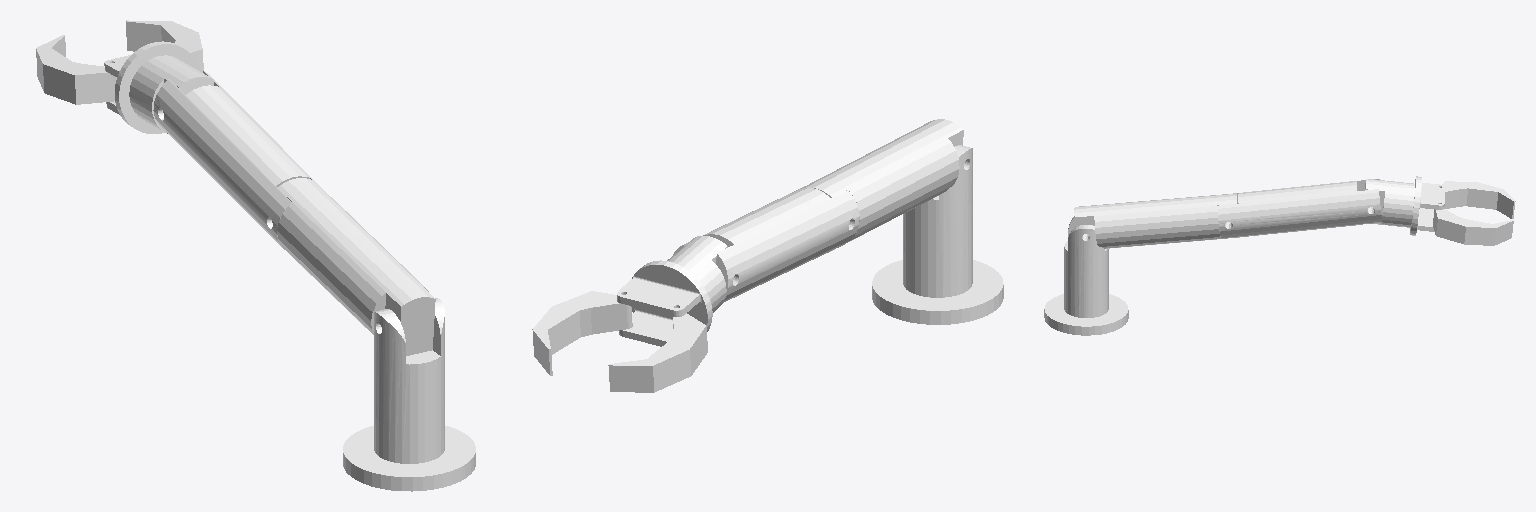
The robot description file, URDF, robot "ros2_sim":
<?xml version="1.0" encoding="utf-8"?>
<!-- This URDF was automatically created by SolidWorks to URDF Exporter! Originally created by [author] ([email redacted]) 
     Commit Version: 1.6.0-4-g7f85cfe  Build Version: 1.6.7995.38578
     For more information, please see http://wiki.ros.org/sw_urdf_exporter -->
<robot
  name="ros2_sim">
  <link
    name="base">
    <inertial>
      <origin
        xyz="-1.60033437349688E-18 -0.005 1.04747665444306E-17"
        rpy="0 0 0" />
      <mass
        value="0.0567450173054657" />
      <inertia
        ixx="2.60967970212116E-05"
        ixy="2.82133496763036E-22"
        ixz="-1.6940658945086E-21"
        iyy="5.12478437539987E-05"
        iyz="5.45047151323007E-23"
        izz="2.60967970212116E-05" />
    </inertial>
    <visual>
      <origin
        xyz="0 0 0"
        rpy="0 0 0" />
      <geometry>
        <mesh
          filename="package://ros2_sim/meshes/base.STL" />
      </geometry>
      <material
        name="">
        <color
          rgba="1 1 1 1" />
      </material>
    </visual>
    <collision>
      <origin
        xyz="0 0 0"
        rpy="0 0 0" />
      <geometry>
        <mesh
          filename="package://ros2_sim/meshes/base.STL" />
      </geometry>
    </collision>
  </link>
  <link
    name="base_link">
    <inertial>
      <origin
        xyz="3.9002469351753E-10 0.0402682304308751 4.30569158116084E-09"
        rpy="0 0 0" />
      <mass
        value="0.124890716575147" />
      <inertia
        ixx="9.27843237113564E-05"
        ixy="-1.81820399960508E-12"
        ixz="2.81368669640517E-11"
        iyy="3.2996480797957E-05"
        iyz="-2.15623744000747E-11"
        izz="8.99131695457092E-05" />
    </inertial>
    <visual>
      <origin
        xyz="0 0 0"
        rpy="0 0 0" />
      <geometry>
        <mesh
          filename="package://ros2_sim/meshes/base_link.STL" />
      </geometry>
      <material
        name="">
        <color
          rgba="1 1 1 1" />
      </material>
    </visual>
    <collision>
      <origin
        xyz="0 0 0"
        rpy="0 0 0" />
      <geometry>
        <mesh
          filename="package://ros2_sim/meshes/base_link.STL" />
      </geometry>
    </collision>
  </link>
  <joint
    name="base_joint"
    type="continuous">
    <origin
      xyz="0 0 0"
      rpy="1.5708 0 1.5494" />
    <parent
      link="base" />
    <child
      link="base_link" />
    <axis
      xyz="0 1 0" />
    <limit
      
      effort="50"
      velocity="3.14" />
    <dynamics
      damping="0.5"
      friction="0.2" />
    <safety_controller
      soft_upper_limit="1.8"
      soft_lower_limit="-1"
      k_position="100"
      k_velocity="10" />
  </joint>
  <link
    name="boom">
    <inertial>
      <origin
        xyz="5.55111512312578E-17 0.0725000000000001 5.44269490587723E-18"
        rpy="0 0 0" />
      <mass
        value="0.238854677214736" />
      <inertia
        ixx="0.000497928132261683"
        ixy="-1.65594941188216E-19"
        ixz="-1.05879118406788E-22"
        iyy="5.87726764163228E-05"
        iyz="4.2351647362715E-22"
        izz="0.000502414245810327" />
    </inertial>
    <visual>
      <origin
        xyz="0 0 0"
        rpy="0 0 0" />
      <geometry>
        <mesh
          filename="package://ros2_sim/meshes/boom.STL" />
      </geometry>
      <material
        name="">
        <color
          rgba="1 1 1 1" />
      </material>
    </visual>
    <collision>
      <origin
        xyz="0 0 0"
        rpy="0 0 0" />
      <geometry>
        <mesh
          filename="package://ros2_sim/meshes/boom.STL" />
      </geometry>
    </collision>
  </link>
  <joint
    name="boom_joint"
    type="revolute">
    <origin
      xyz="0 0.09 0"
      rpy="0 0 -1.4684" />
    <parent
      link="base_link" />
    <child
      link="boom" />
    <axis
      xyz="0 0 1" />
    <limit
      lower="-0.8"
      upper="1.5"
      effort="50"
      velocity="3.14" />
    <dynamics
      damping="0.5"
      friction="0.2" />
    <safety_controller
      soft_upper_limit="1.8"
      soft_lower_limit="-1"
      k_position="100"
      k_velocity="10" />
  </joint>
  <link
    name="stick">
    <inertial>
      <origin
        xyz="-1.11843248551402E-09 0.0725000059494124 -1.9384471590389E-08"
        rpy="0 0 0" />
      <mass
        value="0.213608786801651" />
      <inertia
        ixx="0.000373907028297135"
        ixy="-5.57398978615582E-12"
        ixz="1.38658290747926E-12"
        iyy="5.63436589421885E-05"
        iyz="2.07772668891586E-11"
        izz="0.000369720498308108" />
    </inertial>
    <visual>
      <origin
        xyz="0 0 0"
        rpy="0 0 0" />
      <geometry>
        <mesh
          filename="package://ros2_sim/meshes/stick.STL" />
      </geometry>
      <material
        name="">
        <color
          rgba="1 1 1 1" />
      </material>
    </visual>
    <collision>
      <origin
        xyz="0 0 0"
        rpy="0 0 0" />
      <geometry>
        <mesh
          filename="package://ros2_sim/meshes/stick.STL" />
      </geometry>
    </collision>
  </link>
  <joint
    name="stick_joint"
    type="revolute">
    <origin
      xyz="0 0.145 0"
      rpy="-3.1416 0 -3.1209" />
    <parent
      link="boom" />
    <child
      link="stick" />
    <axis
      xyz="0 0 1" />
    <limit
      lower="-1.1"
      upper="1.9"
      effort="50"
      velocity="3.14" />
    <dynamics
      damping="0.5"
      friction="0.2" />
    <safety_controller
      soft_upper_limit="1.8"
      soft_lower_limit="-1"
      k_position="100"
      k_velocity="10" />
  </joint>
  <link
    name="wrist">
    <inertial>
      <origin
        xyz="-9.1725793627262E-11 0.0291868512921932 -1.52966684457967E-11"
        rpy="0 0 0" />
      <mass
        value="0.096892259983795" />
      <inertia
        ixx="4.91148837892503E-05"
        ixy="1.55334341513081E-13"
        ixz="1.10197898181765E-12"
        iyy="2.83210790939703E-05"
        iyz="2.4969094981876E-14"
        izz="5.08339130720893E-05" />
    </inertial>
    <visual>
      <origin
        xyz="0 0 0"
        rpy="0 0 0" />
      <geometry>
        <mesh
          filename="package://ros2_sim/meshes/wrist.STL" />
      </geometry>
      <material
        name="">
        <color
          rgba="1 1 1 1" />
      </material>
    </visual>
    <collision>
      <origin
        xyz="0 0 0"
        rpy="0 0 0" />
      <geometry>
        <mesh
          filename="package://ros2_sim/meshes/wrist.STL" />
      </geometry>
    </collision>
  </link>
  <joint
    name="wrist_joint"
    type="revolute">
    <origin
      xyz="0 0.145 0"
      rpy="0 0 0.22719" />
    <parent
      link="stick" />
    <child
      link="wrist" />
    <axis
      xyz="0 0 1" />
    <limit
      lower="-1.5"
      upper="1.5"
      effort="50"
      velocity="3.14" />
    <dynamics
      damping="0.5"
      friction="0.2" />
    <safety_controller
      soft_upper_limit="1.8"
      soft_lower_limit="-1"
      k_position="100"
      k_velocity="10" />
  </joint>
  <link
    name="gripper1">
    <inertial>
      <origin
        xyz="-0.0121000181512973 -2.77555756156289E-17 0.0328269389844376"
        rpy="0 0 0" />
      <mass
        value="0.024535444434625" />
      <inertia
        ixx="1.18614897633984E-05"
        ixy="1.16467030247466E-21"
        ixz="-9.21066216267171E-07"
        iyy="1.25340108198844E-05"
        iyz="1.12364214409203E-20"
        izz="2.30821735212762E-06" />
    </inertial>
    <visual>
      <origin
        xyz="0 0 0"
        rpy="0 0 0" />
      <geometry>
        <mesh
          filename="package://ros2_sim/meshes/gripper1.STL" />
      </geometry>
      <material
        name="">
        <color
          rgba="1 1 1 1" />
      </material>
    </visual>
    <collision>
      <origin
        xyz="0 0 0"
        rpy="0 0 0" />
      <geometry>
        <mesh
          filename="package://ros2_sim/meshes/gripper1.STL" />
      </geometry>
    </collision>
  </link>
  <joint
    name="gripper1_joint"
    type="revolute">
    <origin
      xyz="0 0.068 -0.02"
      rpy="3.1416 -1.2227 1.5708" />
    <parent
      link="wrist" />
    <child
      link="gripper1" />
    <axis
      xyz="0 -1 0" />
    <limit
      lower="-1.1"
      upper="1.1"
      effort="50"
      velocity="3.14" />
    <dynamics
      damping="0.5"
      friction="0.2" />
    <safety_controller
      soft_upper_limit="2"
      soft_lower_limit="-1"
      k_position="100"
      k_velocity="10" />
  </joint>
  <link
    name="gripper2">
    <inertial>
      <origin
        xyz="-0.0121000181512973 8.32667268468867E-17 0.0328269389844376"
        rpy="0 0 0" />
      <mass
        value="0.024535444434625" />
      <inertia
        ixx="1.18614897633984E-05"
        ixy="-1.93229391092387E-21"
        ixz="-9.21066216267173E-07"
        iyy="1.25340108198844E-05"
        iyz="-1.01643953670516E-20"
        izz="2.30821735212762E-06" />
    </inertial>
    <visual>
      <origin
        xyz="0 0 0"
        rpy="0 0 0" />
      <geometry>
        <mesh
          filename="package://ros2_sim/meshes/gripper2.STL" />
      </geometry>
      <material
        name="">
        <color
          rgba="1 1 1 1" />
      </material>
    </visual>
    <collision>
      <origin
        xyz="0 0 0"
        rpy="0 0 0" />
      <geometry>
        <mesh
          filename="package://ros2_sim/meshes/gripper2.STL" />
      </geometry>
    </collision>
  </link>
  <joint
    name="gripper2_joint"
    type="revolute">
    <origin
      xyz="0 0.068 0.02"
      rpy="0 1.4498 1.5708" />
    <parent
      link="wrist" />
    <child
      link="gripper2" />
    <axis
      xyz="0 1 0" />
   <limit
      lower="-1.1"
      upper="1.1"
      effort="50"
      velocity="3.14" />
    <dynamics
      damping="0.5"
      friction="0.2" />
    <safety_controller
      soft_upper_limit="2"
      soft_lower_limit="-1"
      k_position="100"
      k_velocity="10" />

  </joint>
</robot>

--- What the picture shows (computed from the rendered views, not written in the file) ---
The picture shows the robot from 3 angles, left to right: view 1: azimuth 30°, elevation 25°; view 2: azimuth 150°, elevation 25°; view 3: azimuth 270°, elevation 25°; orthographic projection.
Model ros2_sim with 7 links and 6 joints (5 revolute, 1 continuous), rooted at base, posed every joint at zero.
Links seen in each view (by area): view 1: boom, stick, base_link, wrist, base, gripper2, gripper1; view 2: stick, boom, base_link, wrist, base, gripper2, gripper1; view 3: stick, boom, base_link, wrist, base, gripper1, gripper2.
Link boxes in pixels (box(x1,y1,x2,y2)): boom: box(277, 178, 435, 355); stick: box(153, 71, 327, 249); base_link: box(374, 298, 444, 463); wrist: box(104, 41, 213, 133); base: box(343, 426, 475, 491); gripper2: box(36, 35, 116, 104); gripper1: box(126, 20, 203, 72); stick: box(673, 186, 859, 302); boom: box(801, 119, 963, 252); base_link: box(903, 145, 972, 297); wrist: box(617, 236, 727, 346); base: box(872, 260, 1003, 324); gripper2: box(608, 313, 707, 392); gripper1: box(532, 291, 632, 375); stick: box(1217, 179, 1381, 238); boom: box(1074, 193, 1239, 248); base_link: box(1064, 216, 1108, 317); wrist: box(1365, 176, 1445, 235); base: box(1044, 294, 1128, 335); gripper1: box(1433, 209, 1513, 245); gripper2: box(1442, 181, 1515, 218).
Size in the robot's own frame: 0.109 by 0.4759 by 0.1581 metres.
Meshes: 7 distinct files referenced, 7 mesh visuals loaded (7 binary STL).